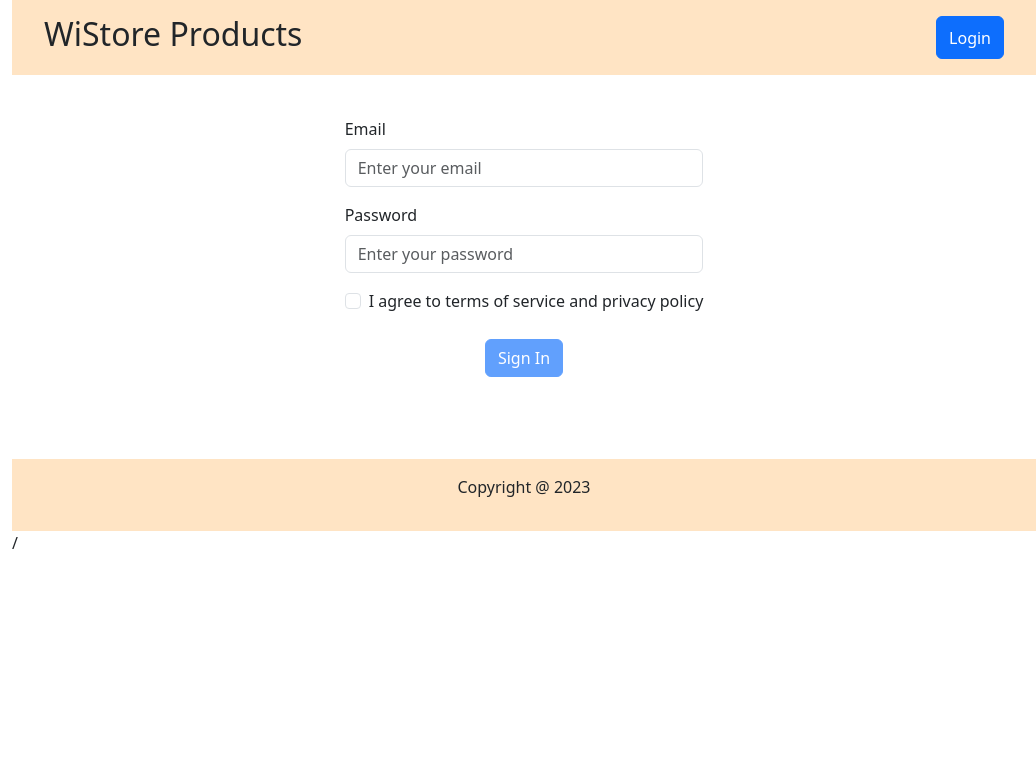
Test: login test › Hatalı durumlarda beklenen hata mesajları görünüyor ve buton disabled kalıyor › email yanlış girilince verilen errorlar
Type "asdfasg.com" into the field with test id "email" at (525, 168), box [345,149,704,187]
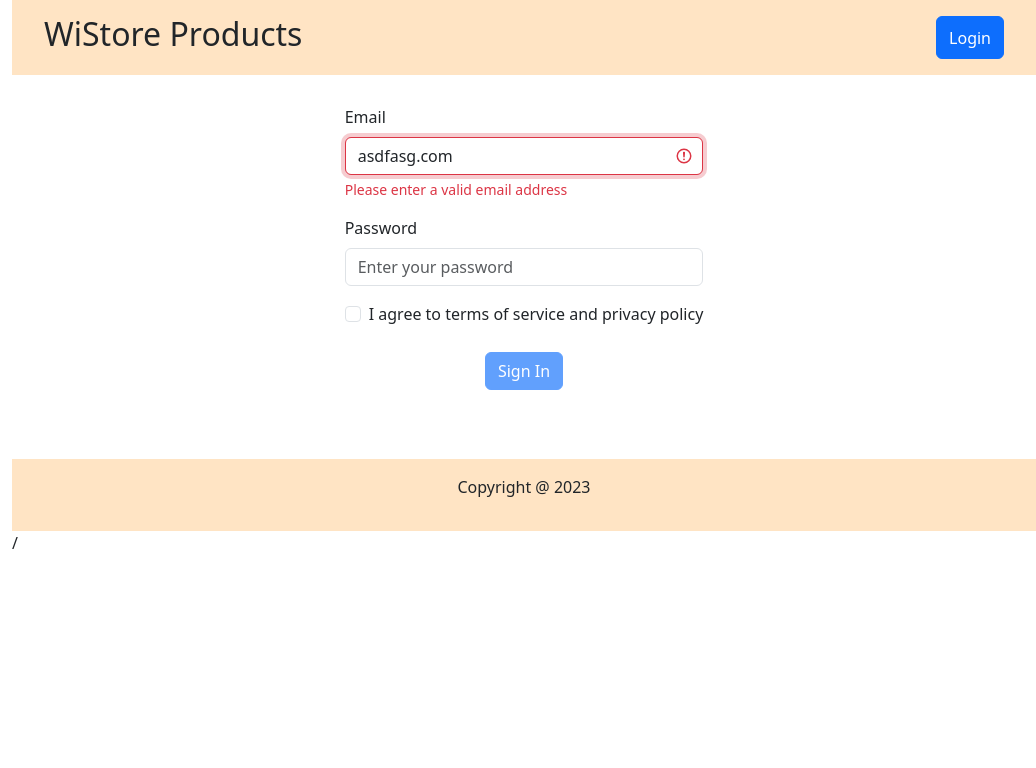
Expected: the button with test id "signin" is disabled, [485,352,563,390]
Now the text "Please enter a valid email address" is shown, box [345,180,567,199]
Now the text with test id "emailerror" reads "Please enter a valid email address", box [345,180,568,199]
